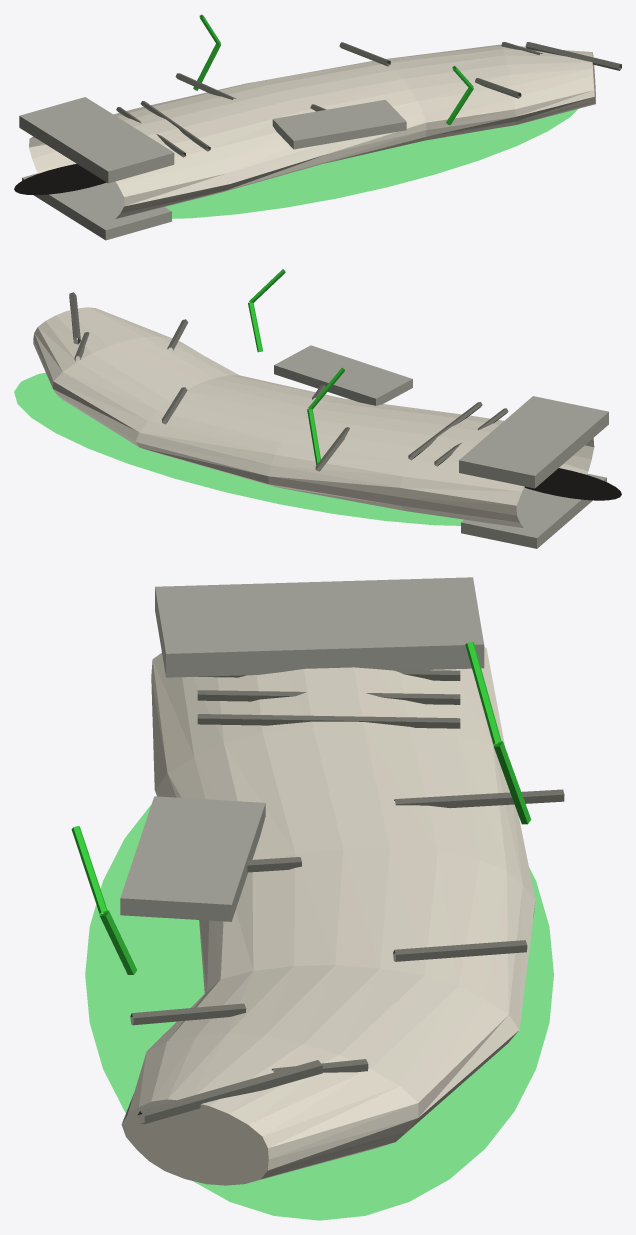
The model's file is single_dropped_sock.obj.
The picture shows the model from 3 angles, top to bottom: view 1: azimuth 30°, elevation 25°; view 2: azimuth 150°, elevation 25°; view 3: azimuth 270°, elevation 25°; orthographic projection. The views are drawn at different scales.
Parts seen in each view (by area): view 1: Sock_soft_body_tube_with_closed_toe, Guide_Scent_Source_Area_delete_or_hide, Sock_cuff_flattened_top_band, Sock_subtle_heel_patch_light_grey, Sock_cuff_flattened_bottom_band, Sock_dark_hollow_opening_inside_cuff, Sock_toe_curved_seam, Sock_cuff_rib_line_04, Sock_soft_fold_wrinkle_01, Sock_soft_fold_wrinkle_03, Sock_soft_fold_wrinkle_04; view 2: Sock_soft_body_tube_with_closed_toe, Guide_Scent_Source_Area_delete_or_hide, Sock_cuff_flattened_top_band, Sock_subtle_heel_patch_light_grey, Sock_cuff_flattened_bottom_band, Sock_dark_hollow_opening_inside_cuff, Sock_cuff_rib_line_04, Sock_toe_curved_seam; view 3: Sock_soft_body_tube_with_closed_toe, Guide_Scent_Source_Area_delete_or_hide, Sock_cuff_flattened_top_band, Sock_subtle_heel_patch_light_grey, Sock_toe_curved_seam, Sock_cuff_rib_line_04, Sock_soft_fold_wrinkle_01, Sock_cuff_rib_line_03, Sock_soft_fold_wrinkle_03, Sock_soft_fold_wrinkle_04, Optional_sock_scent_wisp_1_upper, Optional_sock_scent_wisp_1_lower (+1 smaller).
Part boxes in pixels (x1,y1,x2,y2): Sock_soft_body_tube_with_closed_toe: (29,44,595,219); Guide_Scent_Source_Area_delete_or_hide: (165,109,577,218); Sock_cuff_flattened_top_band: (19,97,174,183); Sock_subtle_heel_patch_light_grey: (272,99,406,149); Sock_cuff_flattened_bottom_band: (22,173,171,240); Sock_dark_hollow_opening_inside_cuff: (14,164,106,195); Sock_toe_curved_seam: (525,42,621,70); Sock_cuff_rib_line_04: (140,101,210,151); Sock_soft_fold_wrinkle_01: (175,73,236,99); Sock_soft_fold_wrinkle_03: (339,42,390,66); Sock_soft_fold_wrinkle_04: (475,78,521,98); Sock_soft_body_tube_with_closed_toe: (33,307,594,529); Guide_Scent_Source_Area_delete_or_hide: (14,372,463,525); Sock_cuff_flattened_top_band: (459,396,608,488); Sock_subtle_heel_patch_light_grey: (274,345,412,405); Sock_cuff_flattened_bottom_band: (461,473,606,548); Sock_dark_hollow_opening_inside_cuff: (524,468,621,500); Sock_cuff_rib_line_04: (408,402,482,460); Sock_toe_curved_seam: (69,292,80,344); Sock_soft_body_tube_with_closed_toe: (121,647,535,1185); Guide_Scent_Source_Area_delete_or_hide: (85,805,553,1220); Sock_cuff_flattened_top_band: (155,577,484,677); Sock_subtle_heel_patch_light_grey: (120,796,265,921); Sock_toe_curved_seam: (137,1060,322,1124); Sock_cuff_rib_line_04: (197,714,460,728); Sock_soft_fold_wrinkle_01: (394,789,564,808); Sock_cuff_rib_line_03: (197,690,460,704); Sock_soft_fold_wrinkle_03: (393,940,527,961); Sock_soft_fold_wrinkle_04: (130,1003,245,1025); Optional_sock_scent_wisp_1_upper: (465,641,501,744); Optional_sock_scent_wisp_1_lower: (493,741,531,824).
Size of what is drawn, in the model's own units: 1.39 by 0.3072 by 0.5258.
